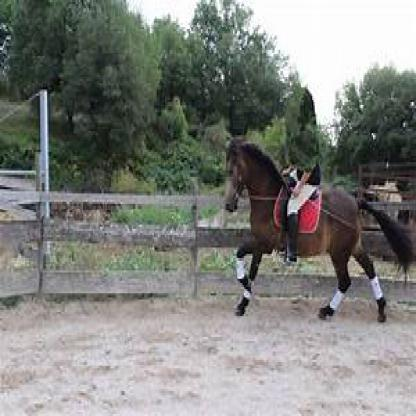horse: (223, 138, 412, 322)
